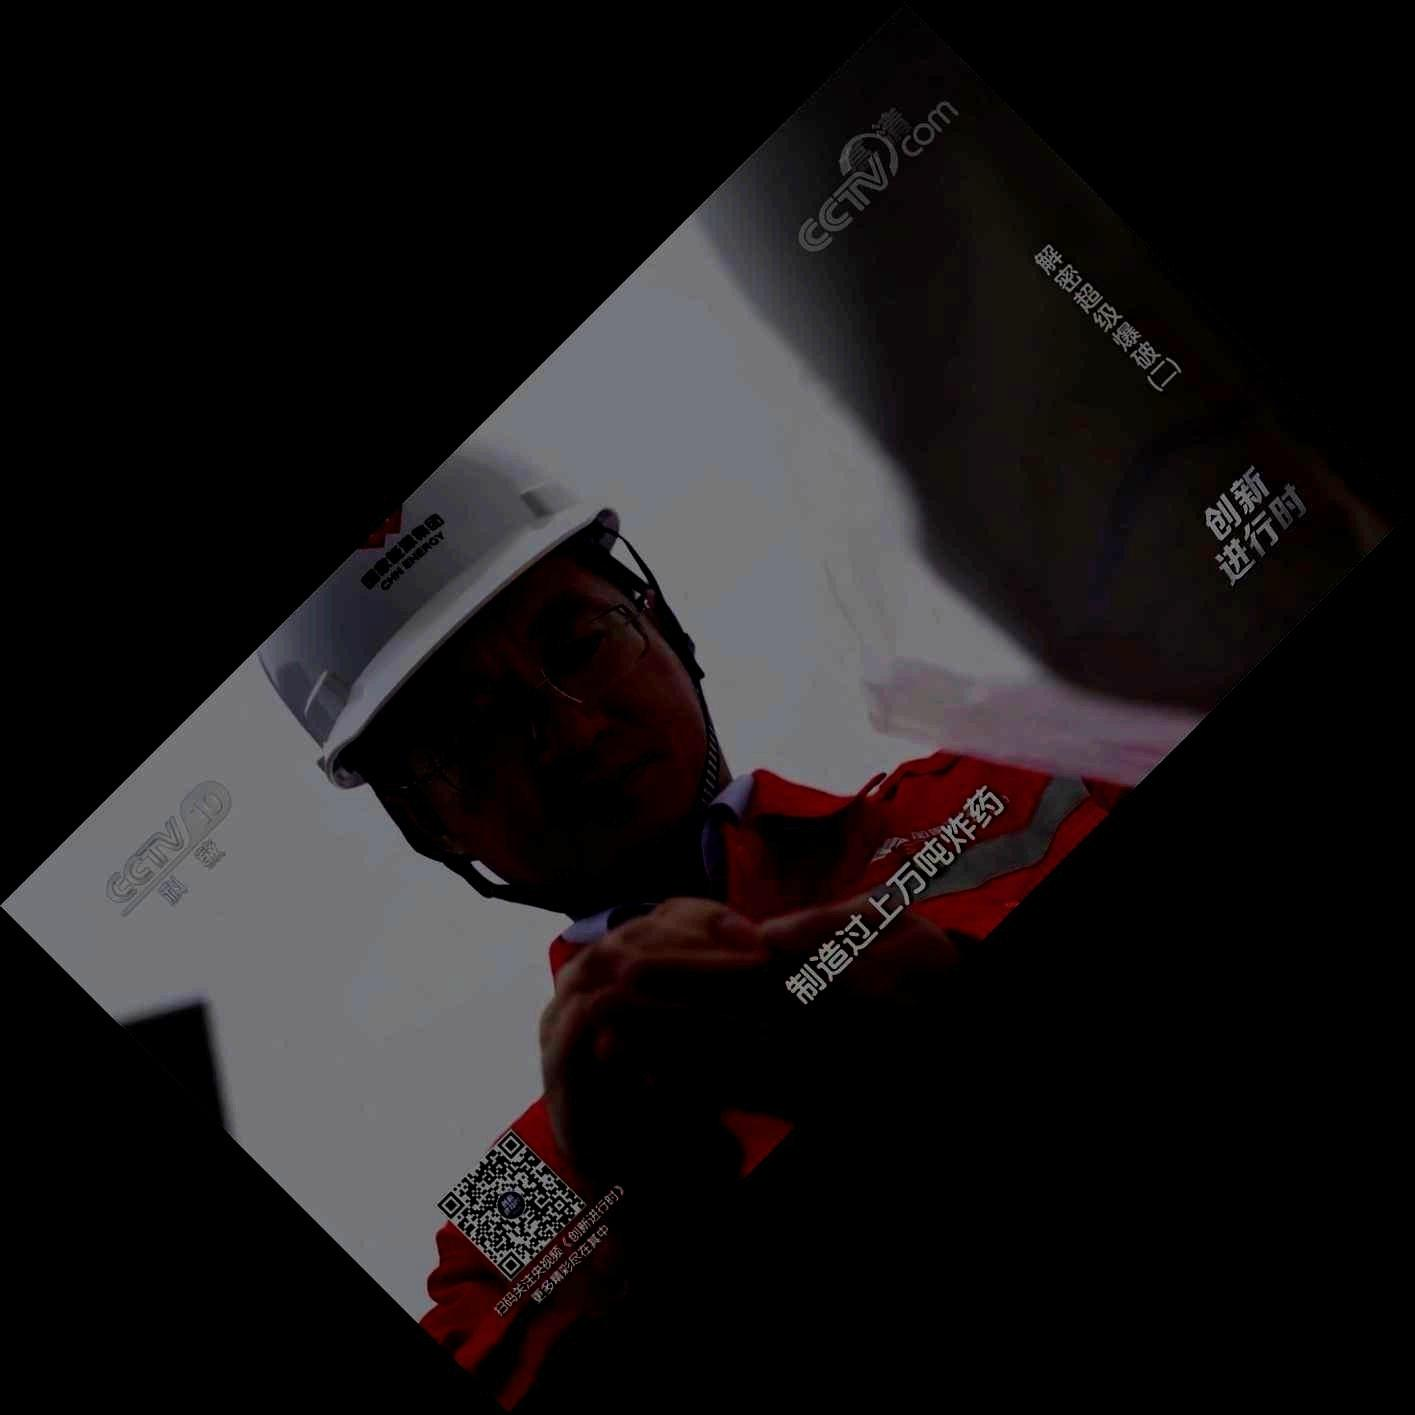helmet: (257, 422, 711, 892)
